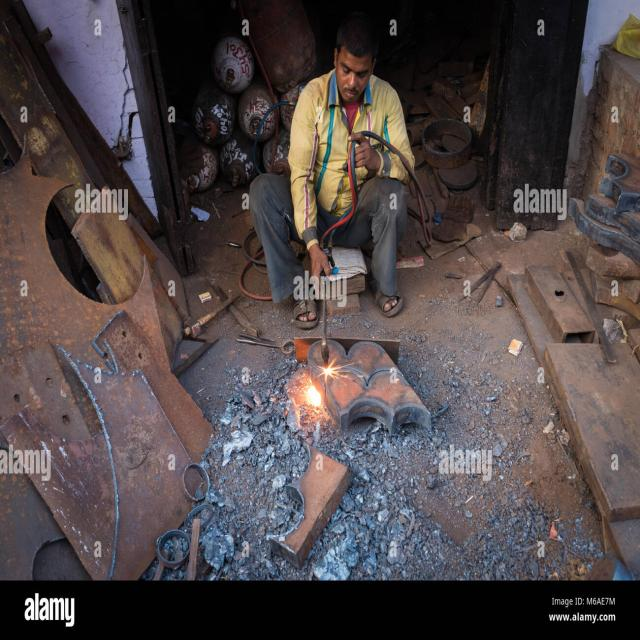without_helmet: (318, 12, 396, 122)
